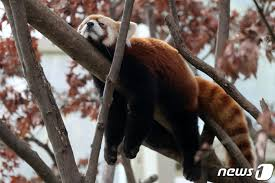redPanda: (71, 9, 256, 176)
